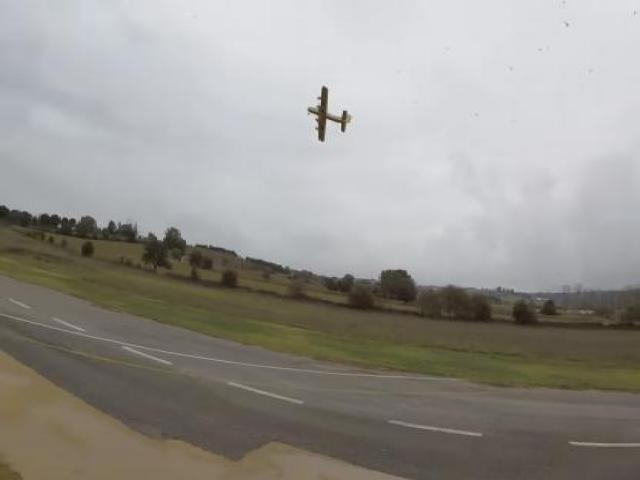uav: (301, 82, 354, 146)
